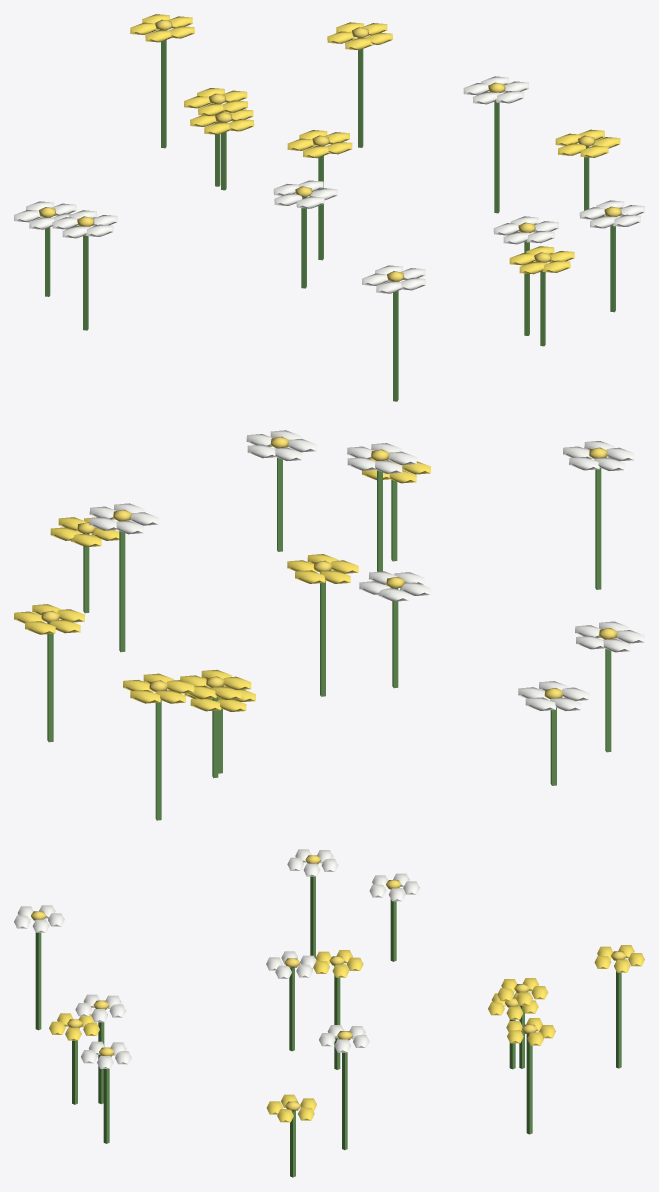
File: flower_patch.glb
The picture shows the model from 3 angles, top to bottom: view 1: azimuth 30°, elevation 25°; view 2: azimuth 150°, elevation 25°; view 3: azimuth 270°, elevation 25°; orthographic projection. The views are drawn at different scales.
Visible parts, largest first — view 1: flower_patch; view 2: flower_patch; view 3: flower_patch.
Boxes of the visible parts, x1,y1,x2,y2 form: flower_patch: (14,14,644,401); flower_patch: (14,430,644,820); flower_patch: (14,849,644,1177).
Size of the model in its own units: 1.43 by 0.3204 by 1.56.
